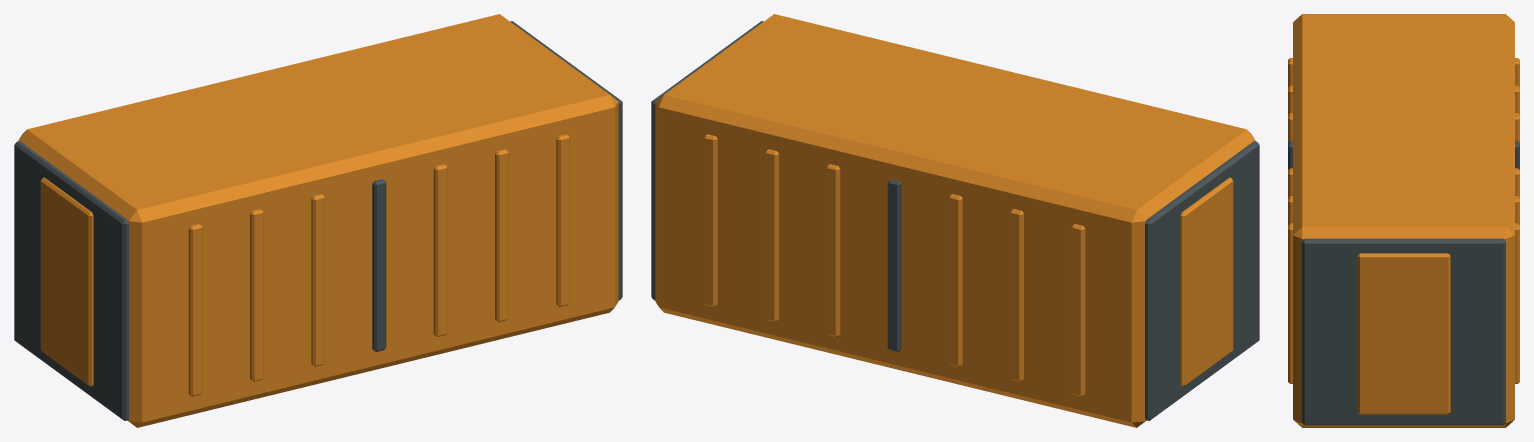
Rendered from wb_container_orange.glb.
3 renders of one model, left to right at view 1: azimuth 30°, elevation 25°; view 2: azimuth 150°, elevation 25°; view 3: azimuth 270°, elevation 25°, orthographic. The views are drawn at different scales.
Visible parts, largest first — view 1: wb_container_orange; view 2: wb_container_orange; view 3: wb_container_orange.
Part boxes in pixels (x1,y1,x2,y2): wb_container_orange: (14,14,622,427); wb_container_orange: (651,14,1259,427); wb_container_orange: (1288,14,1519,427).
Bounding box in the file's own units: 2.07 × 0.85 × 0.888.
